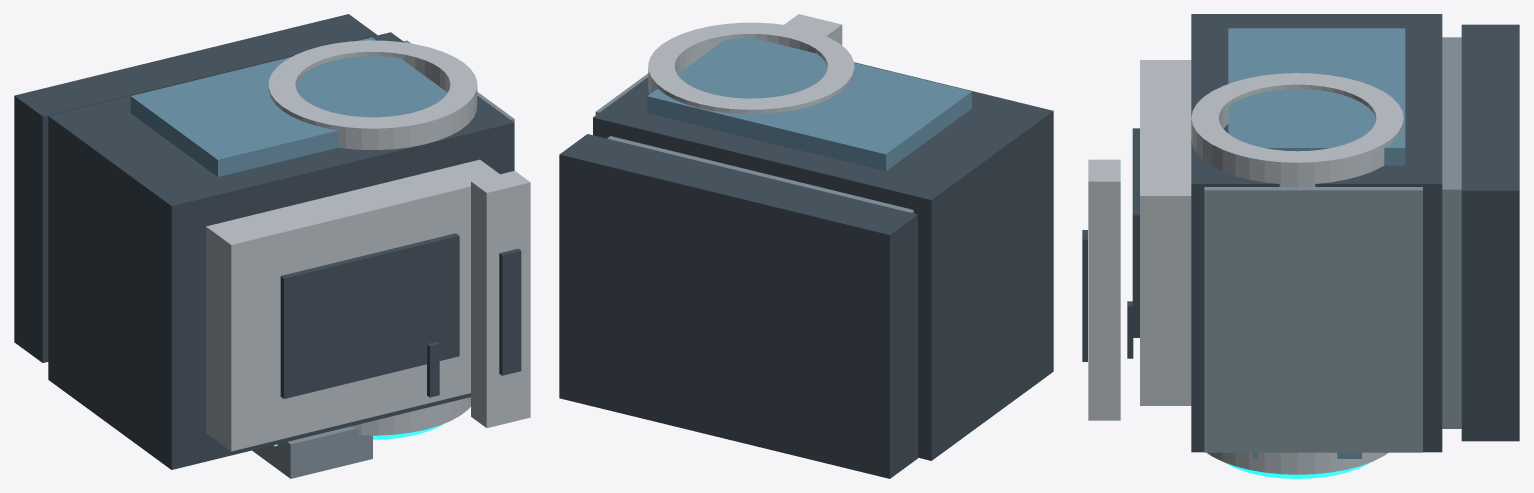
File: shield2.glb
3 views of the same model, side by side, from view 1: azimuth 30°, elevation 25°; view 2: azimuth 150°, elevation 25°; view 3: azimuth 270°, elevation 25° (orthographic). The views are drawn at different scales.
Parts seen in each view (by area): view 1: Main shield reactor chassis, Top reactor spine, Top vent recess, Far blue armor plate, Compact heavy mounting rail, Upper guard rail, Rear core rim, Central reinforced bridge, Guard dark inset, Outer machined core rim, Heat sink slot; view 2: Compact heavy mounting rail, Main shield reactor chassis, Far blue armor plate, Rear core rim, Lower reinforced shell, Upper guard rail; view 3: Outer reinforced cheek, Compact heavy mounting rail, Main shield reactor chassis, Top reactor spine, Far blue armor plate, Rear core rim, Upper guard rail, Lower reinforced shell, Outer machined core rim, Top vent recess, Guard dark inset, Cyan energy ring.
Boxes of the visible parts, x1,y1,x2,y2 form: Main shield reactor chassis: [48, 32, 514, 469]; Top reactor spine: [206, 159, 499, 451]; Top vent recess: [280, 233, 459, 398]; Far blue armor plate: [130, 37, 447, 176]; Compact heavy mounting rail: [14, 14, 377, 362]; Upper guard rail: [471, 171, 530, 427]; Rear core rim: [268, 40, 477, 149]; Central reinforced bridge: [252, 427, 372, 478]; Guard dark inset: [499, 248, 521, 375]; Outer machined core rim: [348, 397, 470, 435]; Heat sink slot: [427, 342, 439, 397]; Compact heavy mounting rail: [559, 134, 917, 478]; Main shield reactor chassis: [593, 62, 1053, 460]; Far blue armor plate: [647, 38, 971, 171]; Rear core rim: [648, 22, 854, 113]; Lower reinforced shell: [607, 136, 913, 213]; Upper guard rail: [784, 14, 842, 45]; Outer reinforced cheek: [1204, 187, 1422, 452]; Compact heavy mounting rail: [1461, 24, 1519, 441]; Main shield reactor chassis: [1191, 14, 1442, 452]; Top reactor spine: [1140, 60, 1191, 405]; Far blue armor plate: [1228, 28, 1405, 165]; Rear core rim: [1191, 73, 1403, 187]; Upper guard rail: [1088, 159, 1120, 420]; Lower reinforced shell: [1442, 37, 1461, 428]; Outer machined core rim: [1207, 452, 1388, 474]; Top vent recess: [1132, 128, 1139, 337]; Guard dark inset: [1082, 230, 1087, 361]; Cyan energy ring: [1224, 462, 1370, 478].
Bounding box in the file's own units: 1.27 × 1.17 × 1.36.
